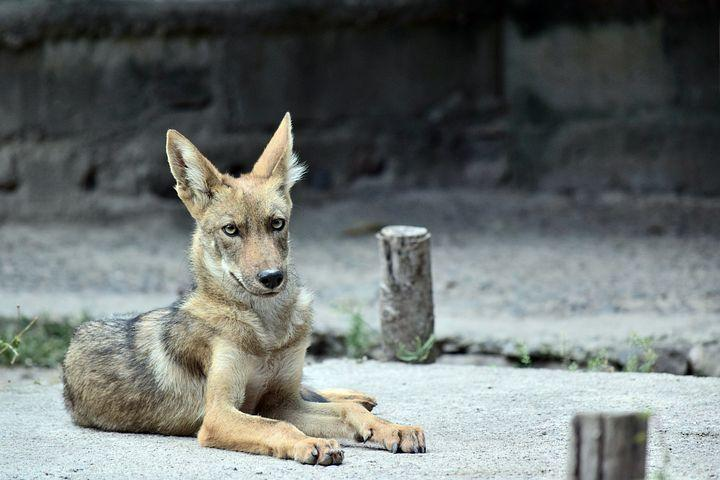Wolf: (60, 110, 426, 480)
